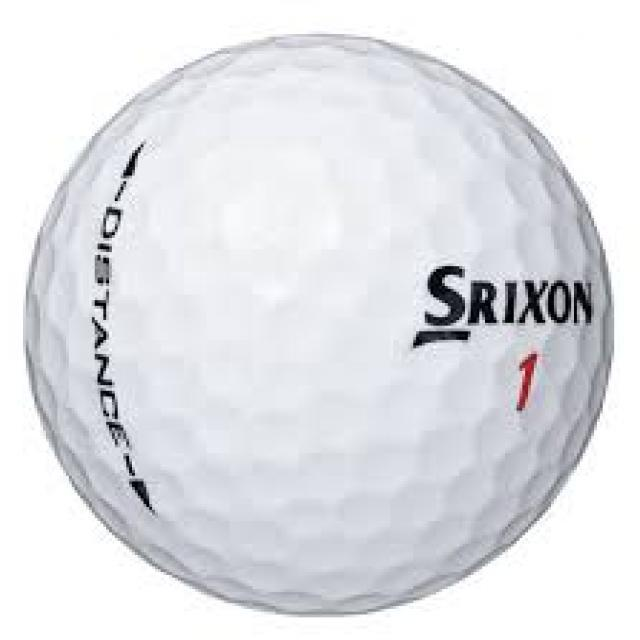golfball: (0, 25, 640, 620)
